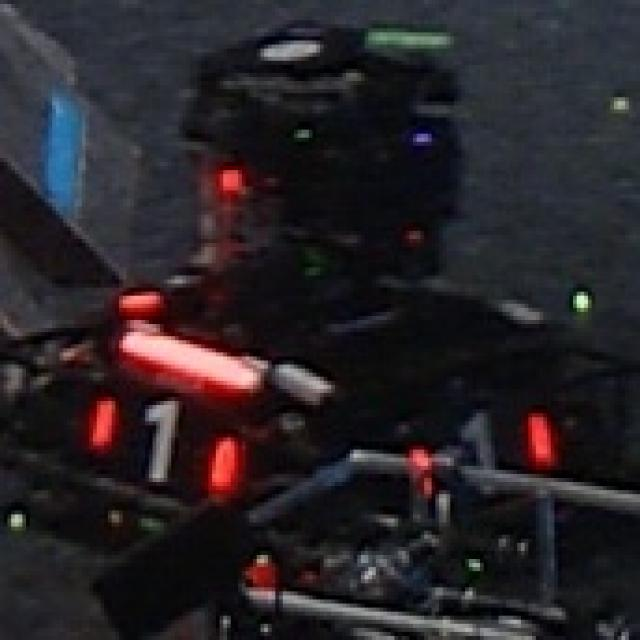R1: (89, 393, 238, 490), (410, 409, 554, 490)
